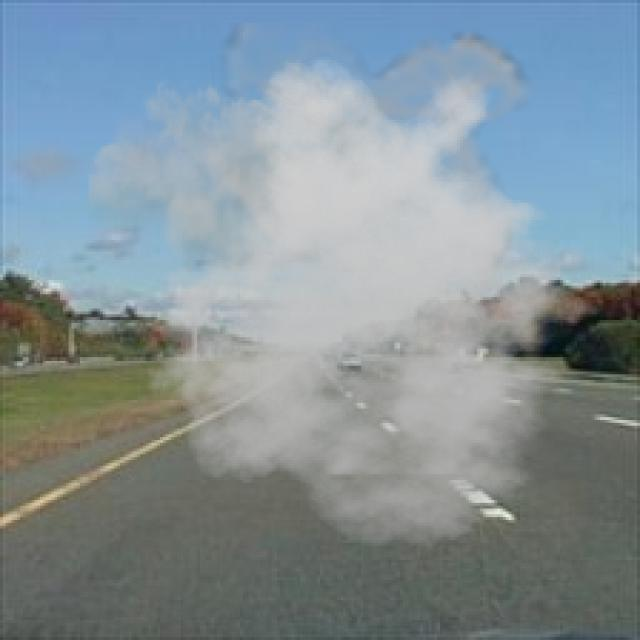smoke: (89, 23, 620, 548)
